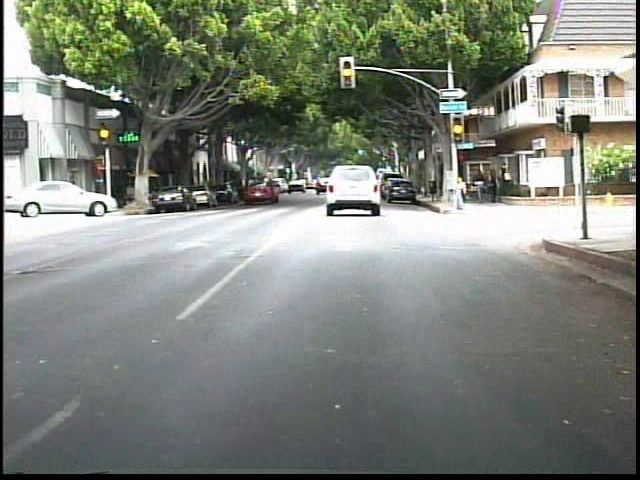person: (449, 173, 470, 213), (472, 168, 487, 204), (497, 160, 512, 196), (486, 167, 499, 205)
